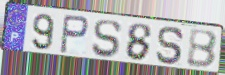8: (126, 23, 154, 63)
9: (31, 12, 56, 52)
B: (186, 29, 219, 70)
P: (58, 13, 90, 56)
S: (90, 19, 123, 59), (155, 25, 186, 66)
